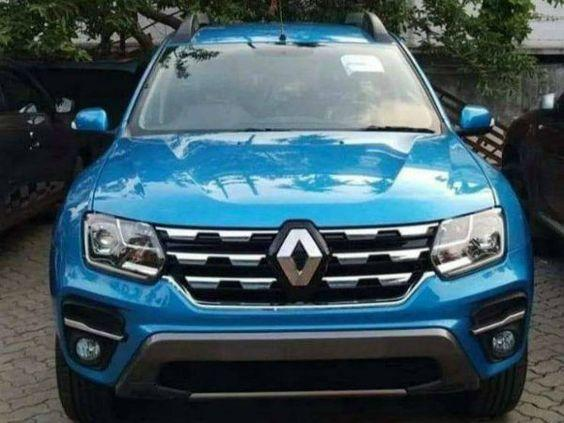Renault: (272, 216, 333, 294)
